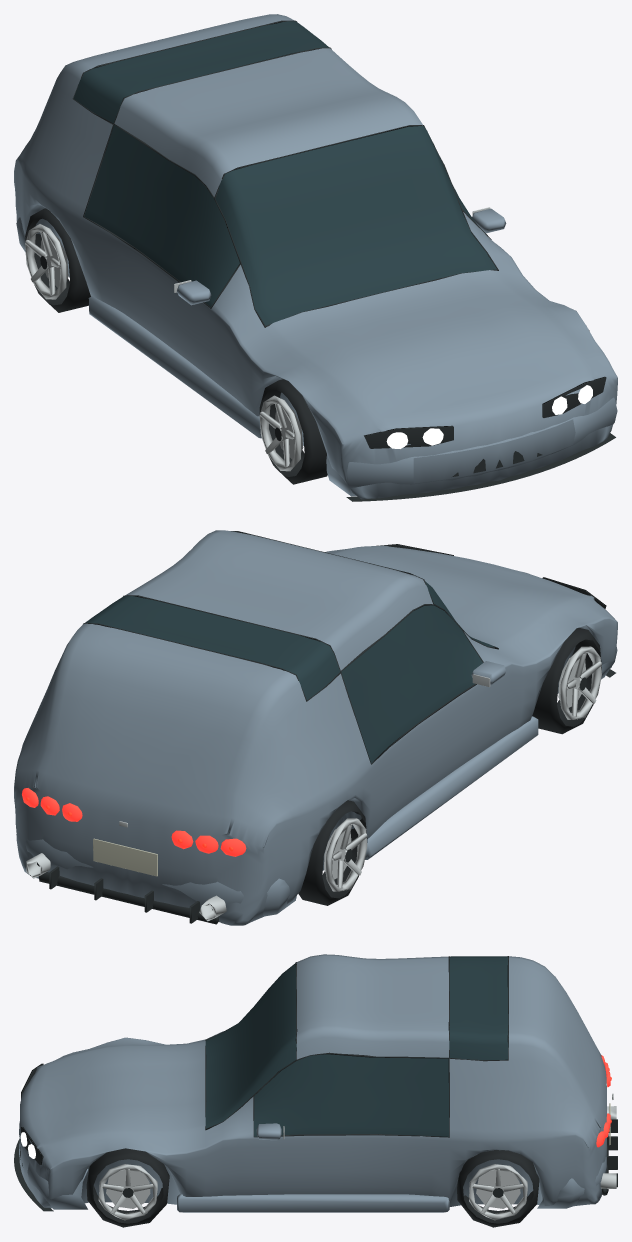
The model's file is uldessa-coryl.glb.
The picture shows the model from 3 angles, top to bottom: view 1: azimuth 30°, elevation 25°; view 2: azimuth 150°, elevation 25°; view 3: azimuth 270°, elevation 25°; orthographic projection. The views are drawn at different scales.
Parts seen in each view (by area): view 1: scocca, cristallo_ant, cofano, tetto, cristallo_sx, porta_sx, cristallo_post, minigonna_sx, paraurti_ant, portellone, ruota_ant_sx_gomma, ruota_post_sx_gomma (+10 smaller); view 2: portellone, scocca, tetto, cristallo_sx, cofano, porta_sx, cristallo_post, minigonna_sx, ruota_ant_sx_gomma, paraurti_post, ruota_post_sx_gomma, targa (+7 smaller); view 3: scocca, tetto, cofano, cristallo_dx, porta_dx, portellone, cristallo_ant, cristallo_post, minigonna_dx, ruota_ant_dx_gomma, ruota_post_dx_gomma, paraurti_ant (+10 smaller).
Part boxes in pixels (x1,y1,x2,y2): scocca: (14,89,617,499); cristallo_ant: (215,126,496,325); cofano: (265,270,591,422); tetto: (114,48,422,196); cristallo_sx: (84,125,239,306); porta_sx: (83,218,225,390); cristallo_post: (73,21,328,123); minigonna_sx: (88,296,261,438); paraurti_ant: (326,397,617,496); portellone: (51,14,294,97); ruota_ant_sx_gomma: (259,379,327,484); ruota_post_sx_gomma: (25,208,90,312); portellone: (29,623,305,837); scocca: (14,545,617,925); tetto: (125,530,432,670); cristallo_sx: (341,605,482,763); cofano: (331,546,591,649); porta_sx: (367,679,501,838); cristallo_post: (85,596,340,700); minigonna_sx: (365,716,538,859); ruota_ant_sx_gomma: (532,627,601,734); paraurti_post: (16,834,296,916); ruota_post_sx_gomma: (298,800,367,905); targa: (93,838,157,876); scocca: (19,1031,606,1208); tetto: (296,954,449,1059); cofano: (41,1040,205,1148); cristallo_dx: (254,1054,448,1136); porta_dx: (239,1135,449,1200); portellone: (508,956,606,1131); cristallo_ant: (205,963,296,1128); cristallo_post: (449,956,508,1059); minigonna_dx: (177,1194,449,1212); ruota_ant_dx_gomma: (86,1148,169,1227); ruota_post_dx_gomma: (457,1150,539,1227); paraurti_ant: (19,1123,88,1209).
Bounding box in the file's own units: 2.35 × 1.63 × 4.91.
